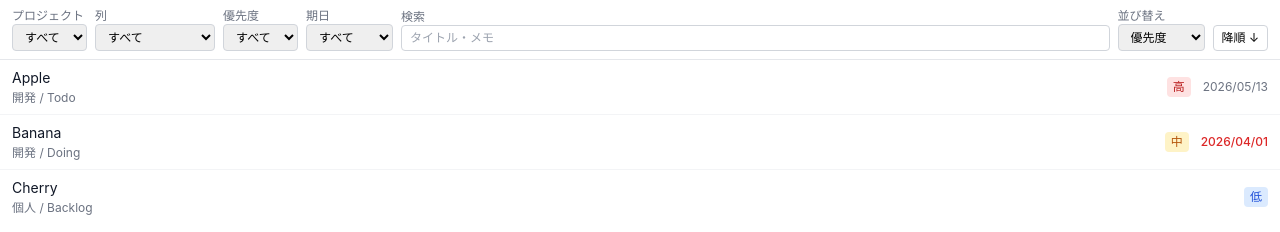
Test: AllTasksView › 期日フィルタ overdue
Select "期限切れ" in the dropdown labelled "期日" at {"x": 350, "y": 38}, box [306,24,393,51]
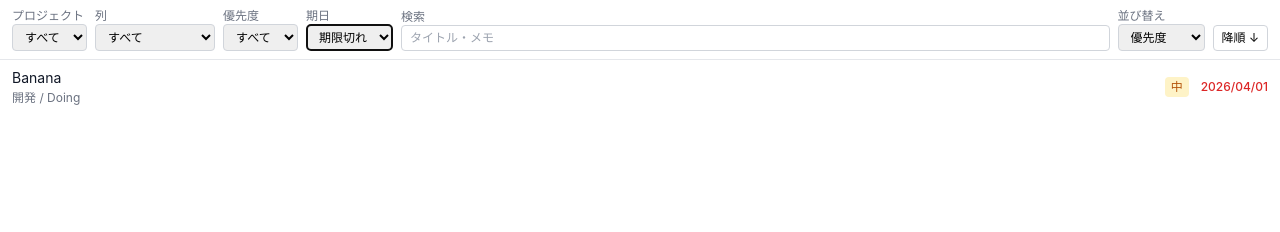
Expected: the text "Banana" is shown, [12,69,61,86]
Expected: the text "Apple" is gone
